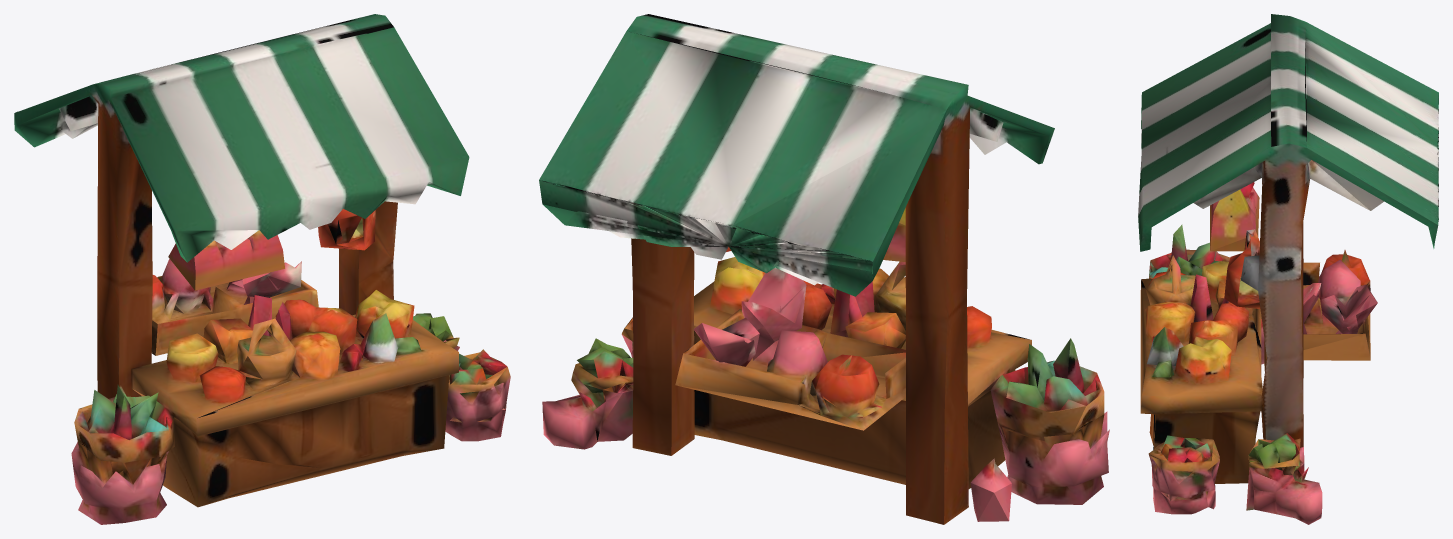
The model's file is awning_stall_4_3000.glb.
The picture shows the model from 3 angles, left to right: view 1: azimuth 30°, elevation 25°; view 2: azimuth 150°, elevation 25°; view 3: azimuth 270°, elevation 25°; orthographic projection. The views are drawn at different scales.
Visible parts, largest first — view 1: t3000; view 2: t3000; view 3: t3000.
Part boxes in pixels (x1,y1,x2,y2): t3000: (14,14,510,524); t3000: (539,14,1109,524); t3000: (1138,14,1438,524).
Size of the model in its own units: 1.81 by 1.54 by 1.19.
1 material, 1 textured.
